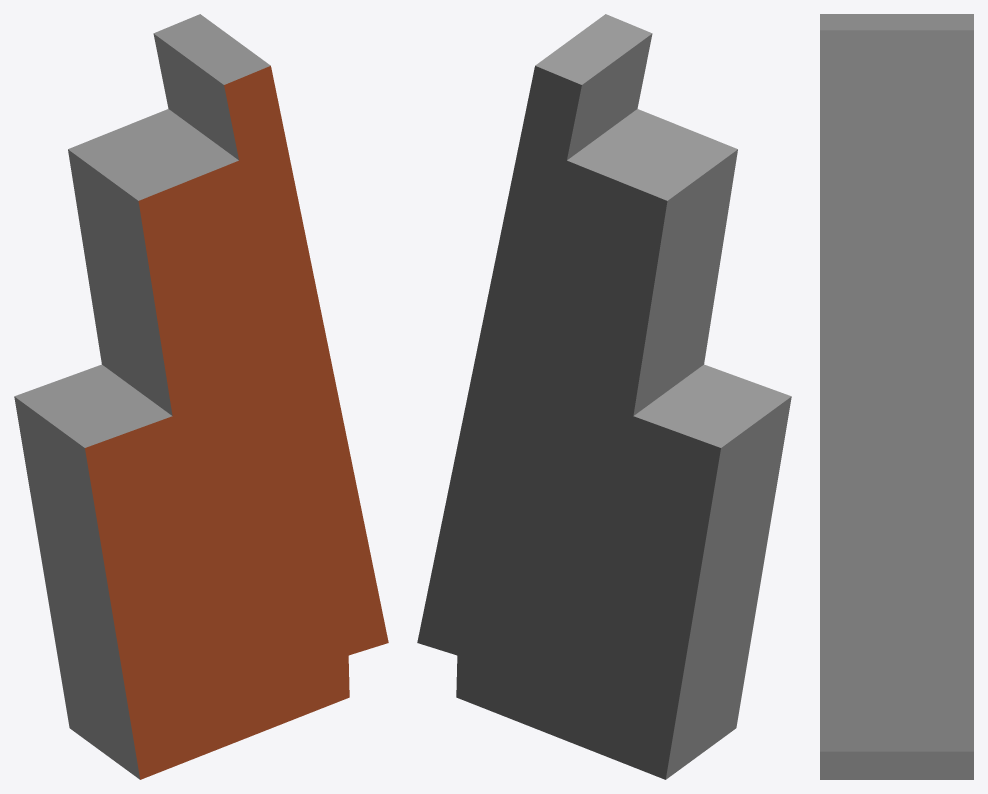
The model's file is construction_1715_assumed_A_Casa_h6m.obj.
The picture shows the model from 3 angles, left to right: view 1: azimuth 30°, elevation 25°; view 2: azimuth 150°, elevation 25°; view 3: azimuth 270°, elevation 25°; orthographic projection. The views are drawn at different scales.
Parts seen in each view (by area): view 1: construction_1715_assumed_A_Casa; view 2: construction_1715_assumed_A_Casa; view 3: construction_1715_assumed_A_Casa.
Boxes of the visible parts, left/top/right/bottom form: construction_1715_assumed_A_Casa: left=14, top=14, right=388, bottom=779; construction_1715_assumed_A_Casa: left=417, top=14, right=791, bottom=779; construction_1715_assumed_A_Casa: left=820, top=14, right=973, bottom=779.
Bounding box in the file's own units: 14.9 × 31.97 × 6.
